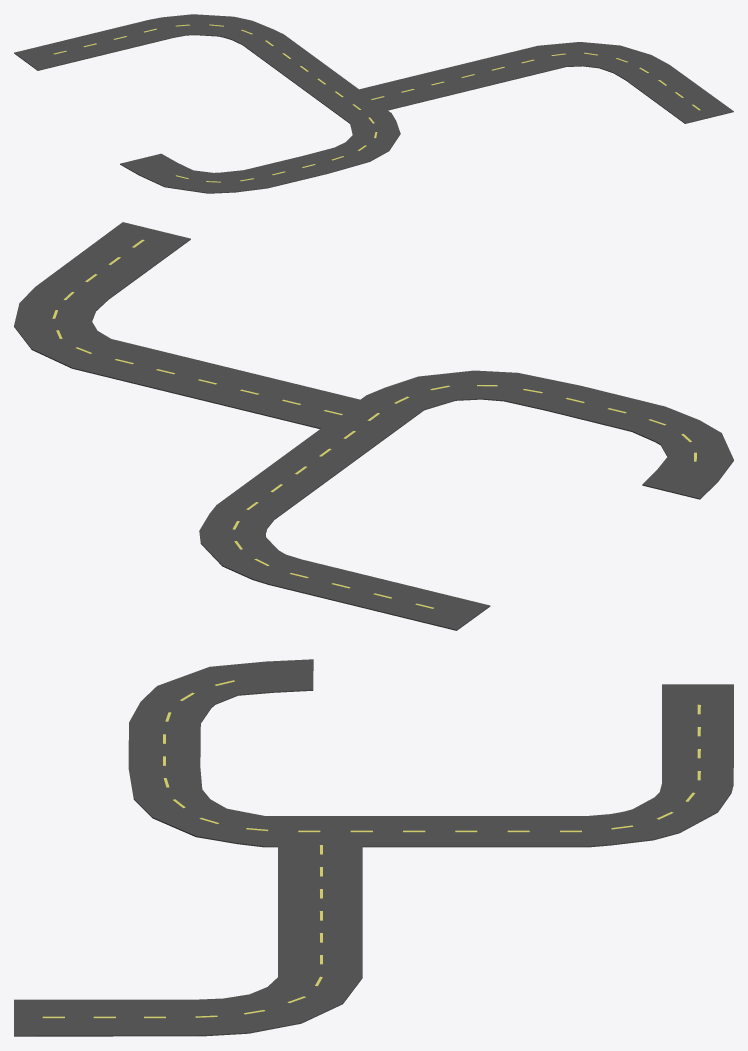
The model's file is StreetBase.fbx.
3 views of the same model, one above another, from view 1: azimuth 30°, elevation 25°; view 2: azimuth 150°, elevation 25°; view 3: azimuth 270°, elevation 25° (orthographic). The views are drawn at different scales.
Parts seen in each view (by area): view 1: Cube; view 2: Cube; view 3: Cube.
Part boxes in pixels (bbox=[...]): Cube: bbox=[14, 14, 733, 193]; Cube: bbox=[14, 222, 733, 630]; Cube: bbox=[14, 659, 733, 1036].
Size of the model in its own units: 13072 by 22.3 by 10572.
